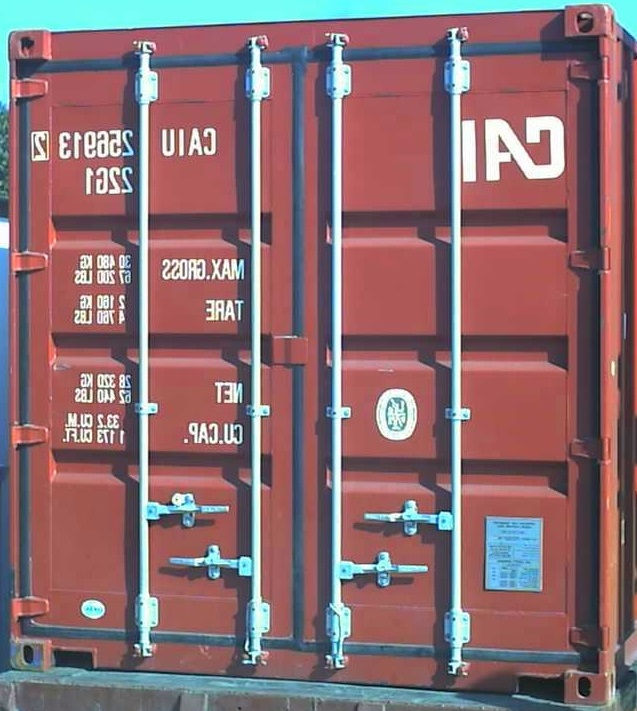container_door: (9, 33, 617, 707)
